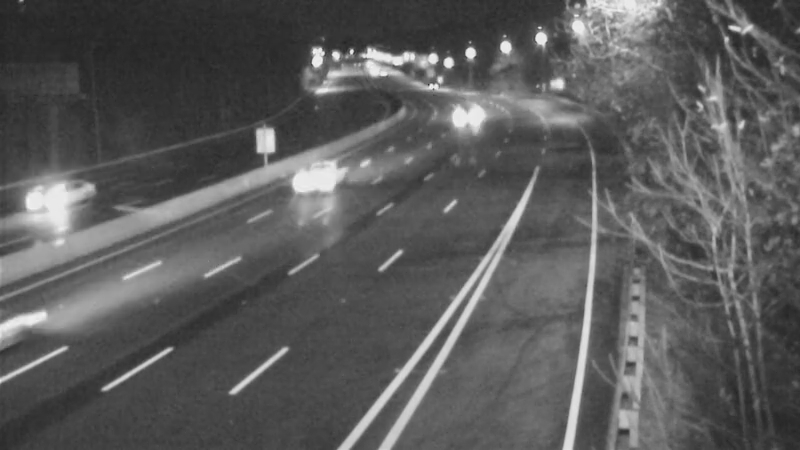vehicle: (280, 140, 360, 220), (18, 153, 98, 233), (407, 62, 457, 112), (438, 95, 488, 145)
